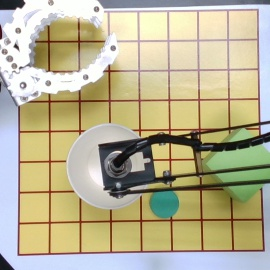cup: (65, 124, 150, 210)
green: (151, 188, 181, 217)
